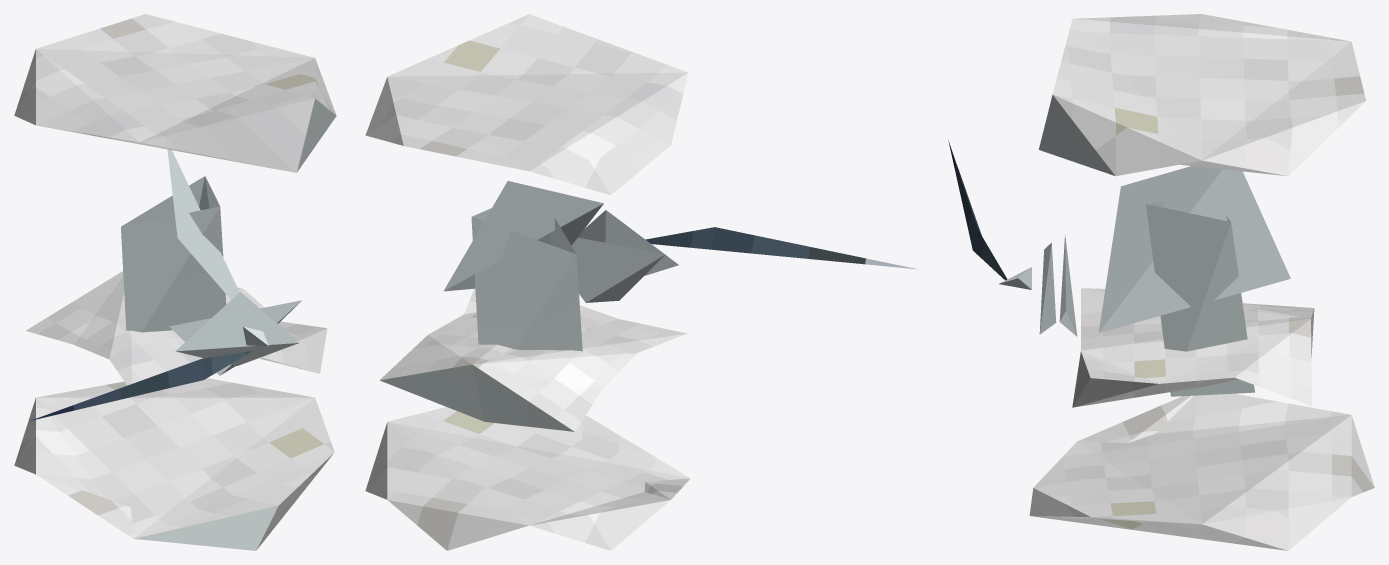
The model's file is pj-162-geode.glb.
3 renders of one model, left to right at view 1: azimuth 30°, elevation 25°; view 2: azimuth 150°, elevation 25°; view 3: azimuth 270°, elevation 25°, orthographic. The views are drawn at different scales.
Parts seen in each view (by area): view 1: Node; view 2: Node; view 3: Node.
Boxes of the visible parts, bbox=[...] form: Node: bbox=[14, 14, 336, 550]; Node: bbox=[365, 14, 917, 550]; Node: bbox=[948, 14, 1374, 550].
Bounding box in the file's own units: 0.2031 × 0.2048 × 0.173.
Materials: 1 (1 with a texture image).
